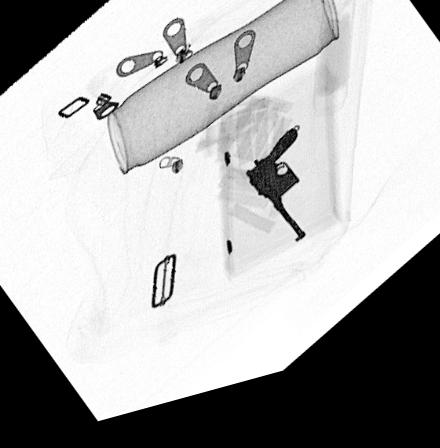Gun: (245, 144, 307, 259)
